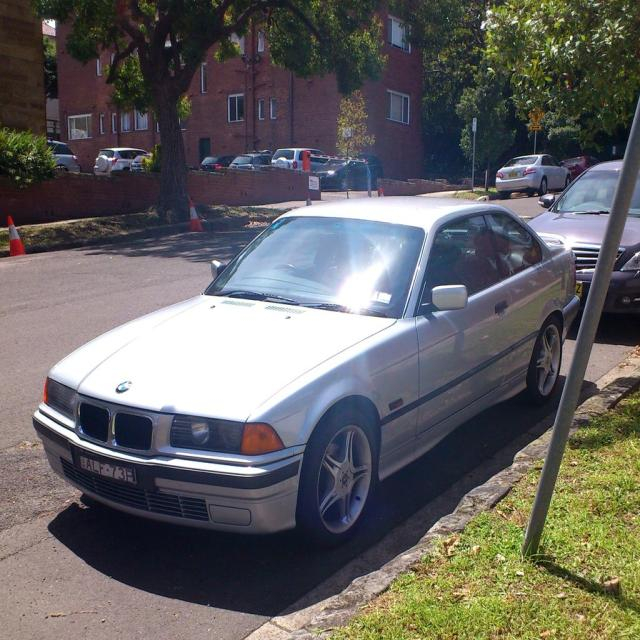car: (34, 190, 589, 548)
